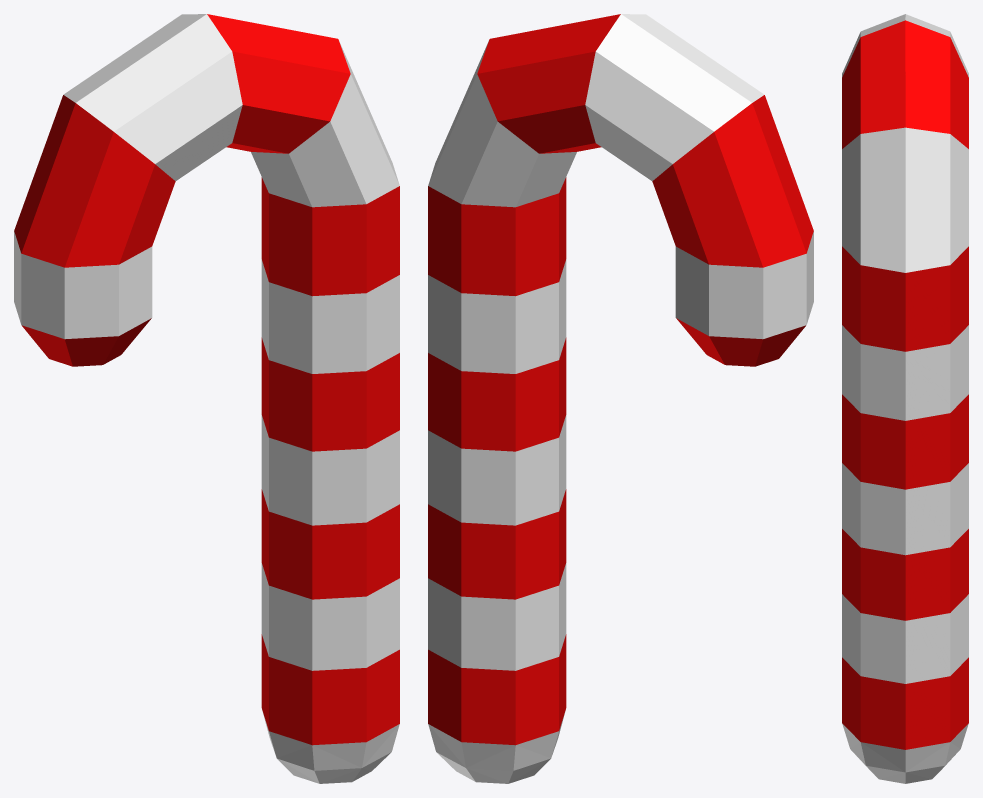
The model's file is candycane.dae.
The picture shows the model from 3 angles, left to right: view 1: azimuth 30°, elevation 25°; view 2: azimuth 150°, elevation 25°; view 3: azimuth 270°, elevation 25°; orthographic projection. The views are drawn at different scales.
Parts seen in each view (by area): view 1: candyCane; view 2: candyCane; view 3: candyCane.
Part boxes in pixels (x1,y1,x2,y2): candyCane: (14,14,399,783); candyCane: (428,14,813,783); candyCane: (842,14,968,783).
Bounding box in the file's own units: 1.93 × 0.6442 × 3.93.
